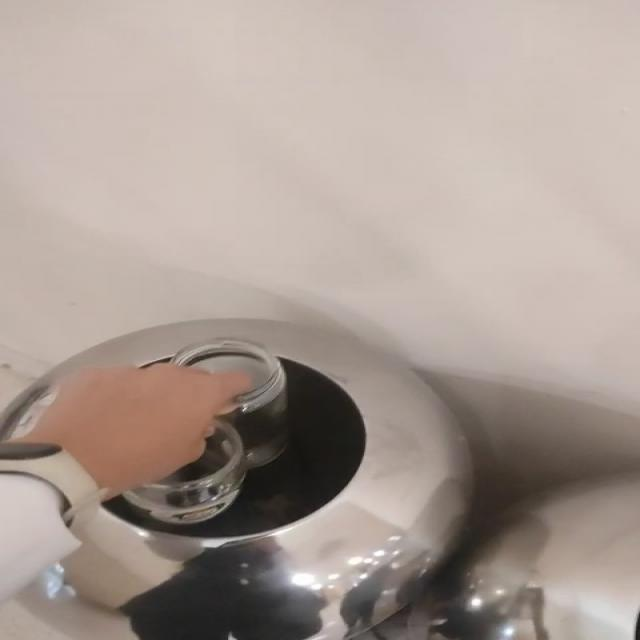glass: (123, 339, 288, 525)
